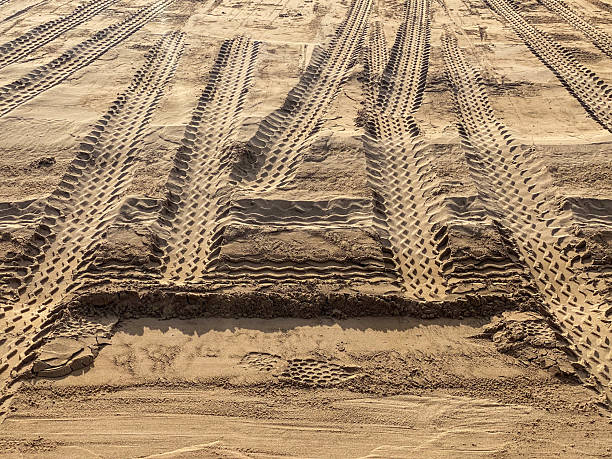vehicle_track: (0, 32, 183, 393), (443, 34, 611, 397), (230, 0, 370, 196), (232, 0, 370, 191), (159, 36, 259, 281), (364, 0, 445, 299), (0, 0, 172, 116), (485, 0, 611, 131), (0, 0, 116, 68), (538, 0, 611, 57)
